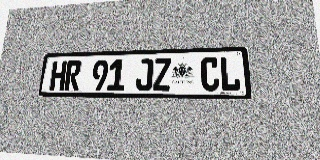1: (107, 59, 125, 91)
9: (91, 60, 109, 91)
C: (200, 57, 220, 91)
H: (49, 61, 67, 91)
J: (135, 58, 153, 91)
L: (220, 56, 241, 91)
R: (64, 60, 82, 91)
Z: (153, 58, 171, 91)
